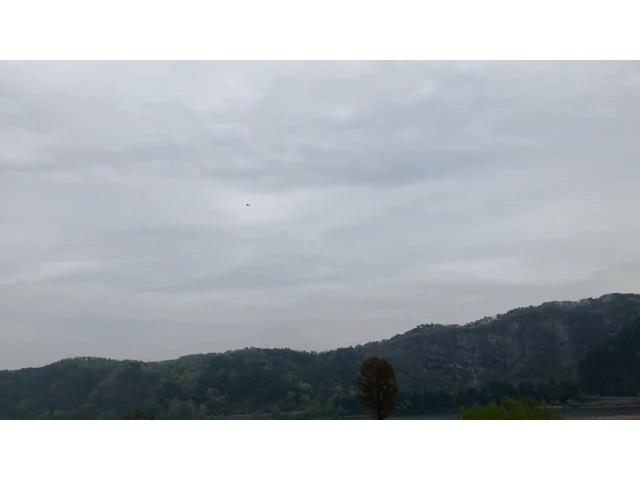Anti-Drone: (240, 200, 256, 208)
